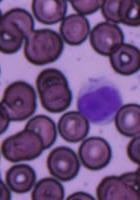L: (77, 76, 125, 124)
